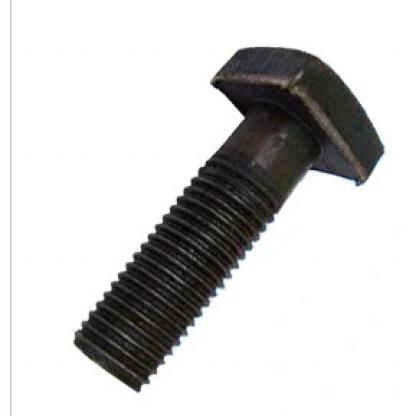FOD: (55, 31, 382, 395)
